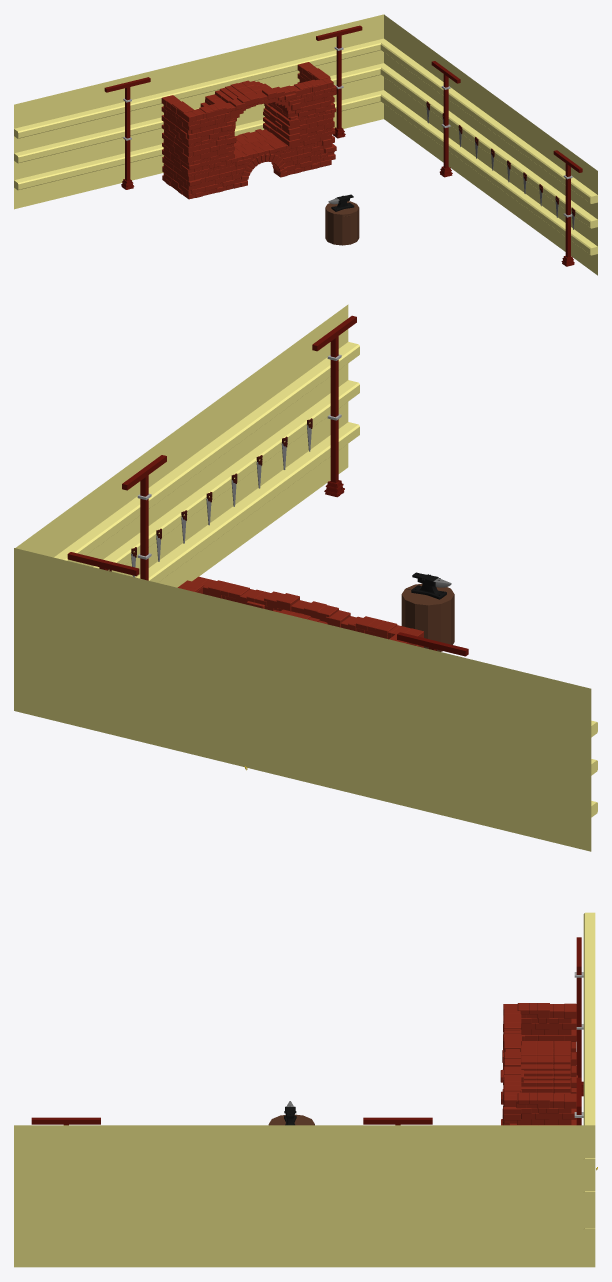
The model's file is ferraria_provisorio.fbx.
The picture shows the model from 3 angles, top to bottom: view 1: azimuth 30°, elevation 25°; view 2: azimuth 150°, elevation 25°; view 3: azimuth 270°, elevation 25°; orthographic projection. The views are drawn at different scales.
Visible parts, largest first — view 1: Parede.001, FogaoLenha.001, Viga.001, Apoio_bigorna.001, Serrote.001; view 2: Parede.001, Viga.001, FogaoLenha.001, Apoio_bigorna.001, Serrote.001; view 3: Parede.001, FogaoLenha.001, Viga.001.
Boxes of the visible parts, <box> form: Parede.001: <box>14,14,597,275</box>; FogaoLenha.001: <box>161,62,336,199</box>; Viga.001: <box>104,25,582,266</box>; Apoio_bigorna.001: <box>325,201,359,245</box>; Serrote.001: <box>426,101,575,229</box>; Parede.001: <box>14,304,597,851</box>; Viga.001: <box>67,315,468,656</box>; FogaoLenha.001: <box>177,576,423,647</box>; Apoio_bigorna.001: <box>401,583,454,651</box>; Serrote.001: <box>107,418,312,577</box>; Parede.001: <box>14,912,595,1267</box>; FogaoLenha.001: <box>500,1003,577,1125</box>; Viga.001: <box>31,937,583,1125</box>.
Size of the model in its own units: 2727 by 742 by 2739.
